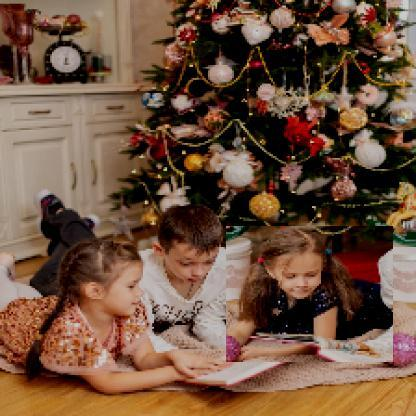child: (1, 241, 237, 395), (227, 227, 395, 364)
